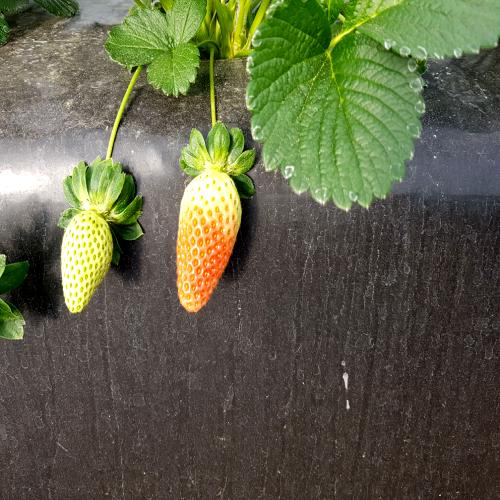partially-ripe: (172, 163, 247, 319)
unripe: (57, 205, 118, 323)
